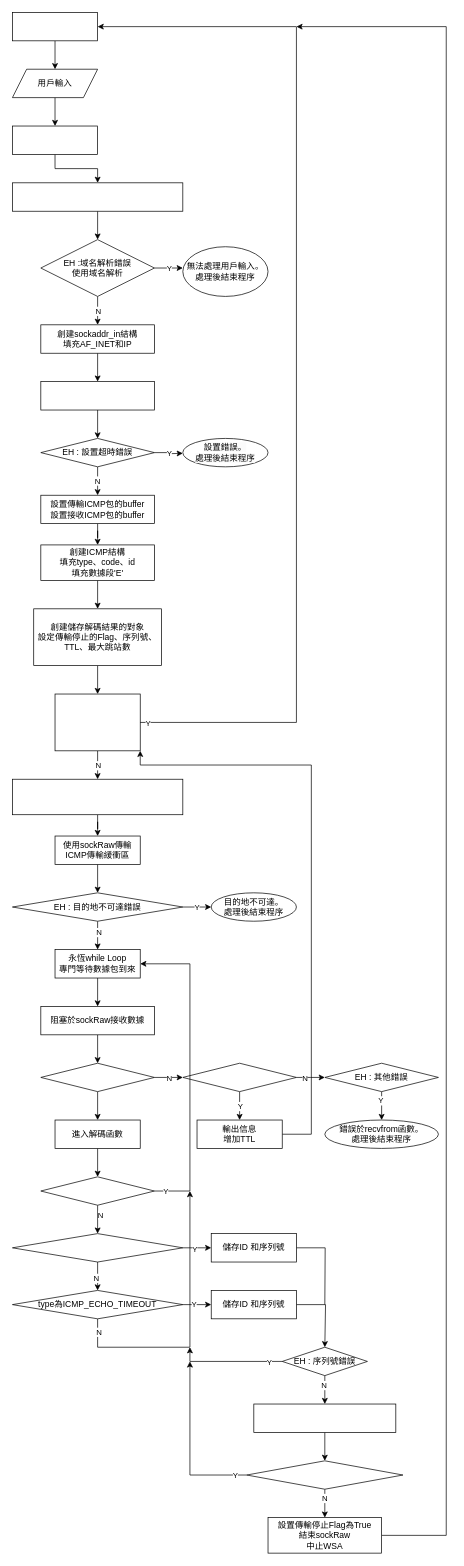
The diagram is 464 pixels wide and 1566 high, and some of its shapes have lost their labels. The centre of each missing label's shape, as x and y in pixels:
EH : 原IP和接收IP不同錯誤: the point at 324,1474
EH : 接收錯誤: the point at 97,1077
EH : 數據包大小過小: the point at 97,1190
EH : 超時錯誤: the point at 239,1077
type為ICMP_ECHO_REPLY: the point at 97,1247
while Loop 傳輸停止Flag為True 或 跳站數使用完: the point at 97,722
儲存IP、往返時間在解碼結構中 輸出用時信息: the point at 324,1417
初始化winsock2: the point at 55,139
創建Raw類型的Socket 設置Socket的超時: the point at 97,395
永恆while迴圈: the point at 55,26
用戶輸入之xxx.xxx.xxx.xxx由十進制轉二進制: the point at 97,196
設置sockRaw的TTL 設置ICMP傳輸緩衝區的cksum和序列號 在解碼結果結構中儲存當前序列號和時間: the point at 97,797
